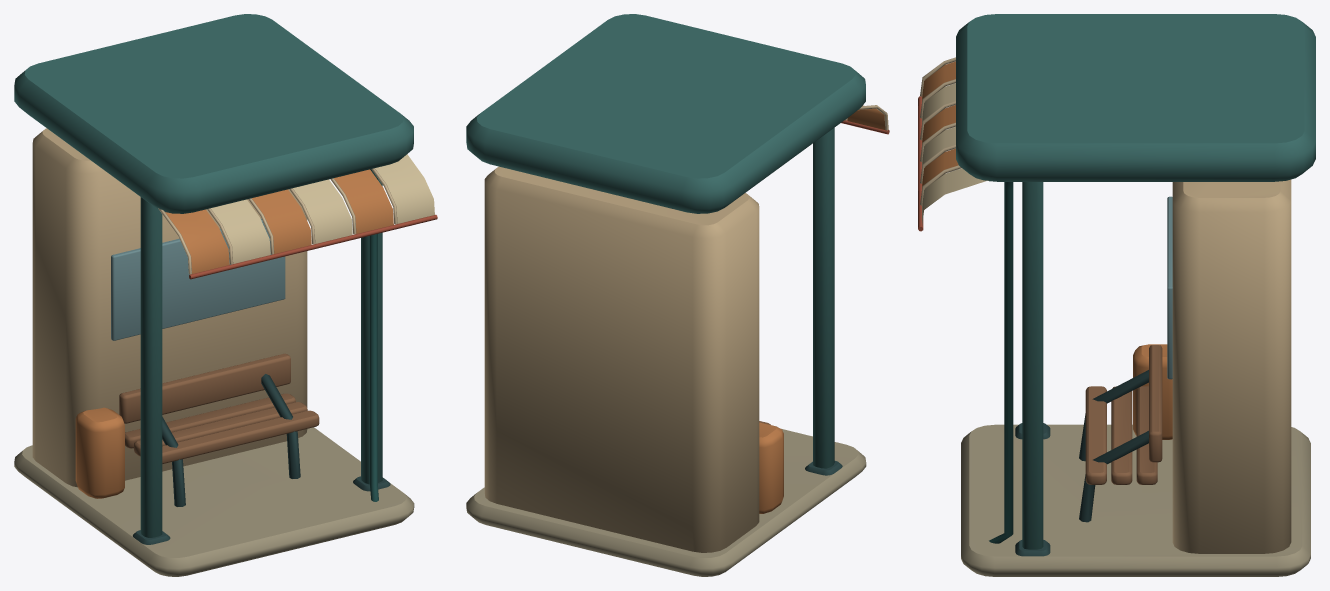
Rendered from annex_motel_5.glb.
3 renders of one model, left to right at view 1: azimuth 30°, elevation 25°; view 2: azimuth 150°, elevation 25°; view 3: azimuth 270°, elevation 25°, orthographic. The views are drawn at different scales.
Visible parts, largest first — view 1: AnnexMotel5; view 2: AnnexMotel5; view 3: AnnexMotel5.
Part boxes in pixels (x1,y1,x2,y2): AnnexMotel5: (14,14,437,576); AnnexMotel5: (466,14,889,576); AnnexMotel5: (918,14,1315,576).
Size of the model in its own units: 2.33 by 3.38 by 2.82.
